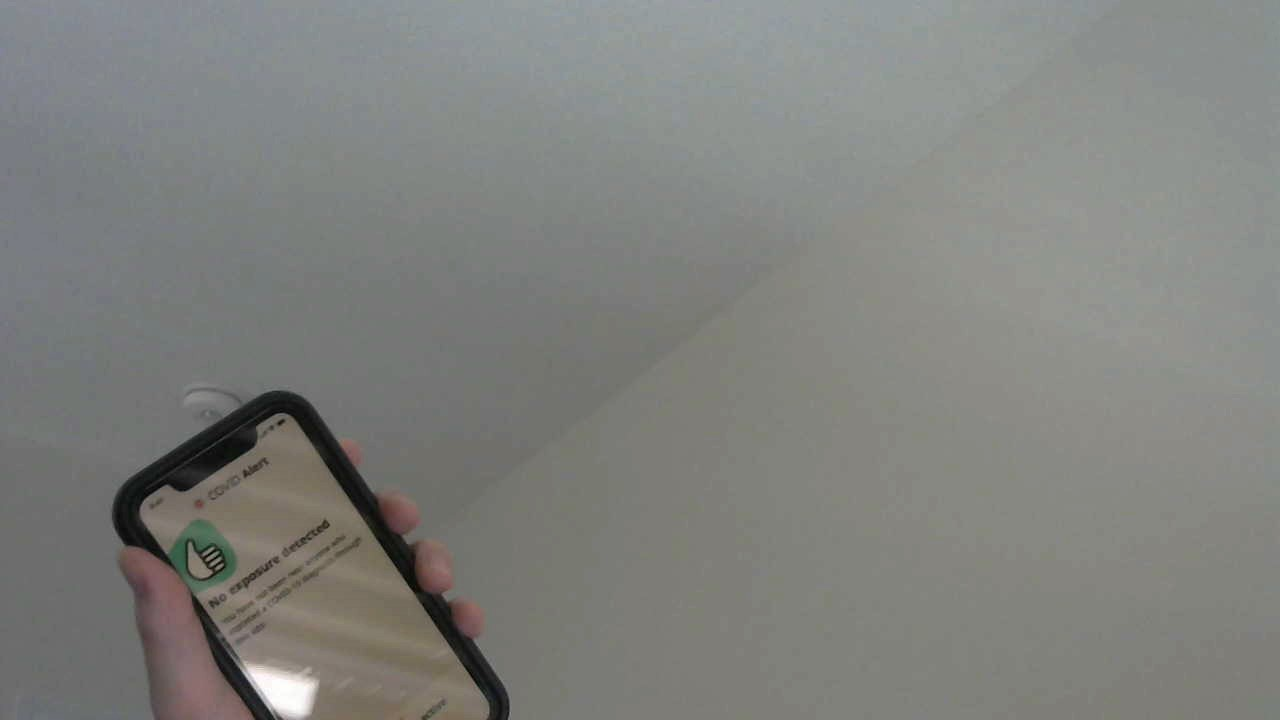Safe: (151, 514, 357, 606)
